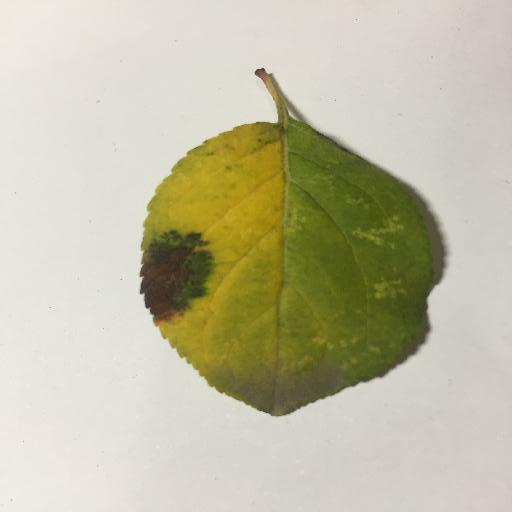Brown_Spot: (137, 235, 212, 324)
